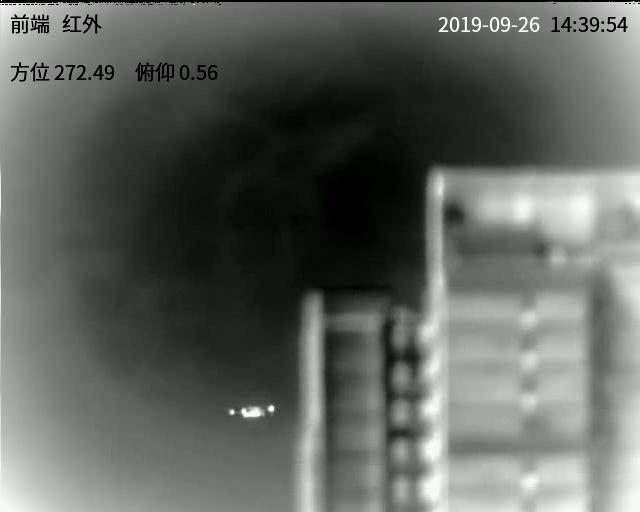DRONE: (229, 403, 278, 418)
